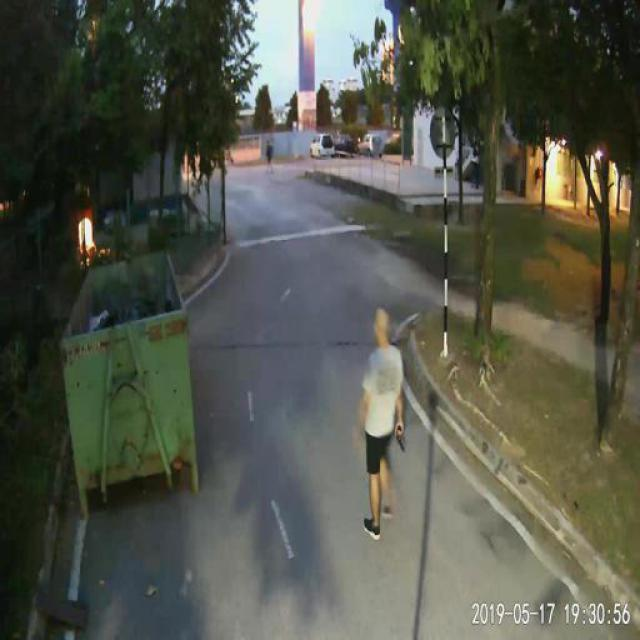weapon: (396, 424, 406, 452)
